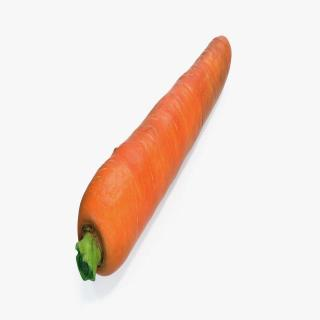carrot: (74, 30, 232, 290)
